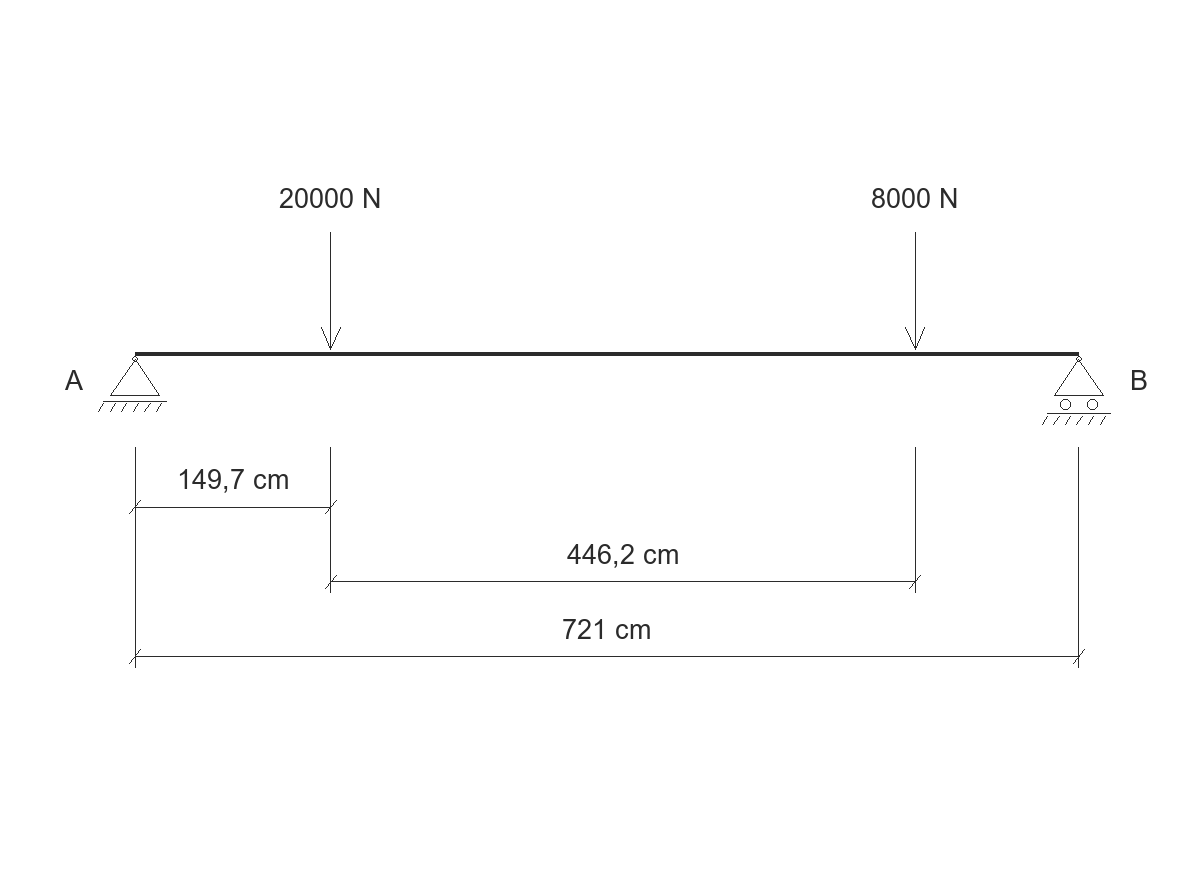pin_support: (98, 356, 167, 412)
point_load: (321, 232, 341, 350), (905, 232, 925, 350)
roller_support: (1042, 356, 1111, 425)
